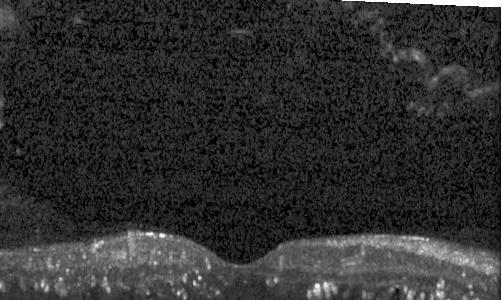intraretinal_cyst: (390, 288, 402, 298)
